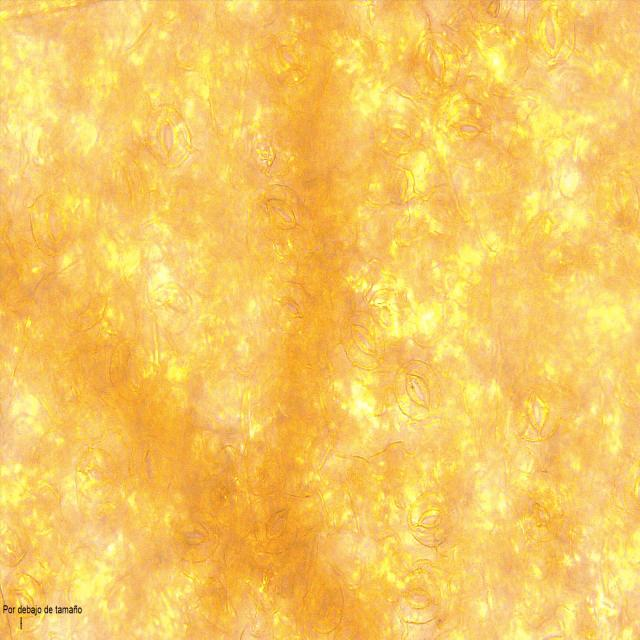Stomata: (372, 93, 426, 159), (526, 0, 576, 68), (412, 32, 461, 99), (145, 104, 193, 170), (108, 337, 156, 403), (393, 359, 443, 421), (29, 192, 76, 257), (127, 436, 174, 500), (512, 382, 562, 442), (255, 184, 304, 244), (168, 508, 220, 564), (339, 309, 386, 369), (596, 168, 640, 232), (446, 98, 492, 158), (407, 489, 453, 548), (253, 496, 299, 555), (396, 568, 442, 626), (64, 275, 108, 335), (269, 29, 314, 87), (149, 280, 194, 336), (74, 447, 119, 503), (306, 572, 346, 635), (271, 282, 313, 333), (524, 489, 564, 542), (0, 522, 29, 568)
